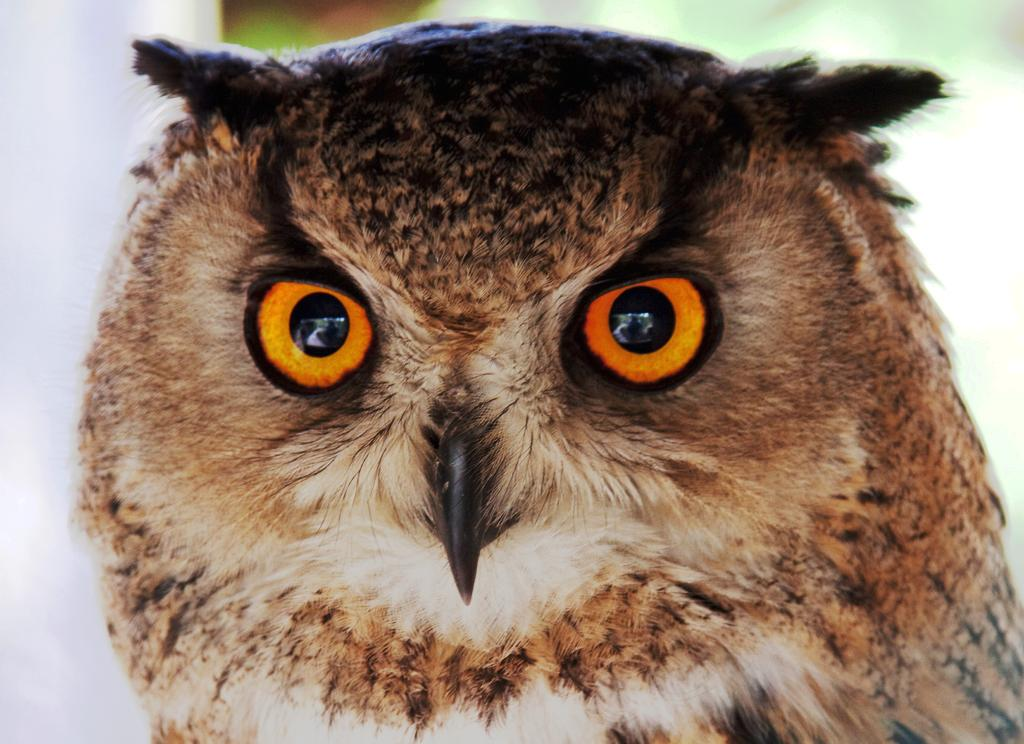Owl: (68, 14, 1024, 744)
